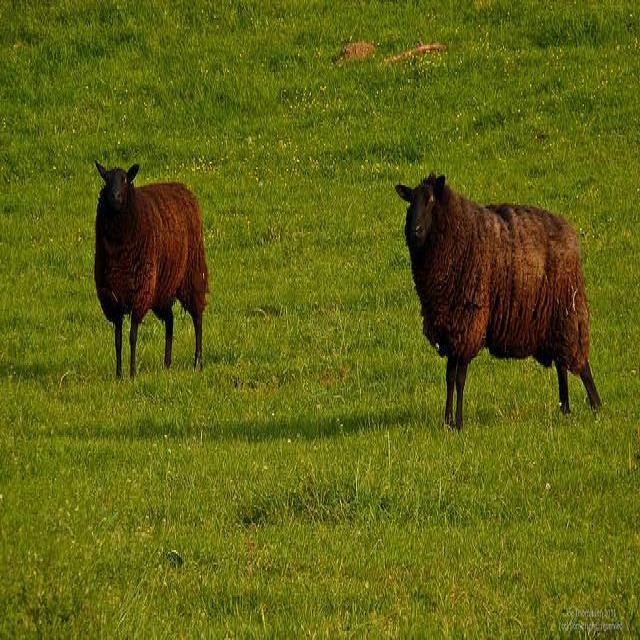Sheep: (407, 176, 601, 442), (93, 162, 211, 379)
